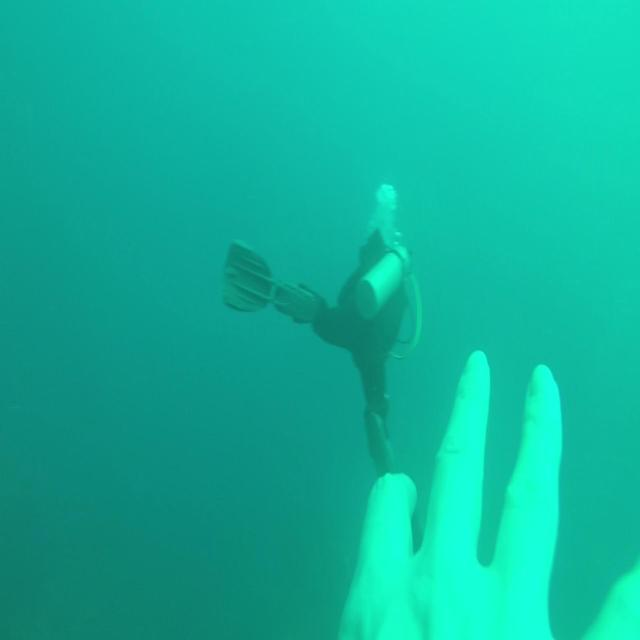human: (222, 181, 422, 479)
